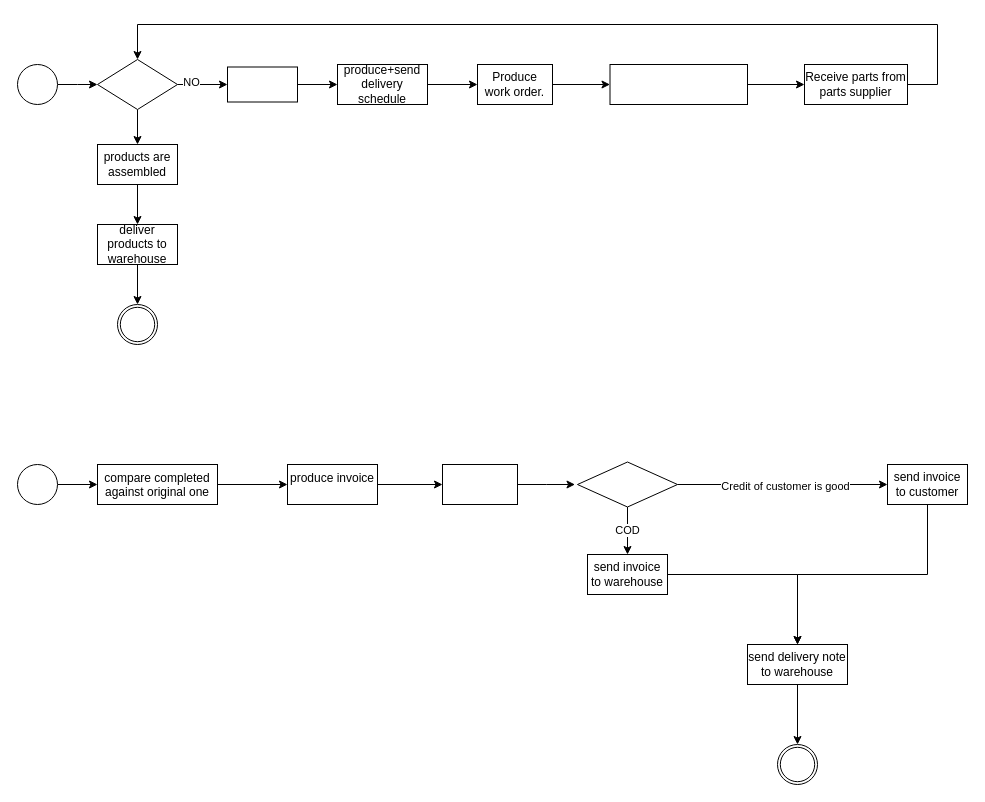
Image size: 985x802. Some labels were removed from this diagram. The box of each missing label's shape, as (x1, y1, x2, y2) in pixels:
check availability: (96, 58, 178, 110)
credit decision: (576, 461, 678, 507)
generate list +order from supplier: (226, 66, 298, 102)
produce delivery note: (442, 464, 518, 504)
produce product delivery schedule +sent to the customer: (609, 64, 748, 104)
